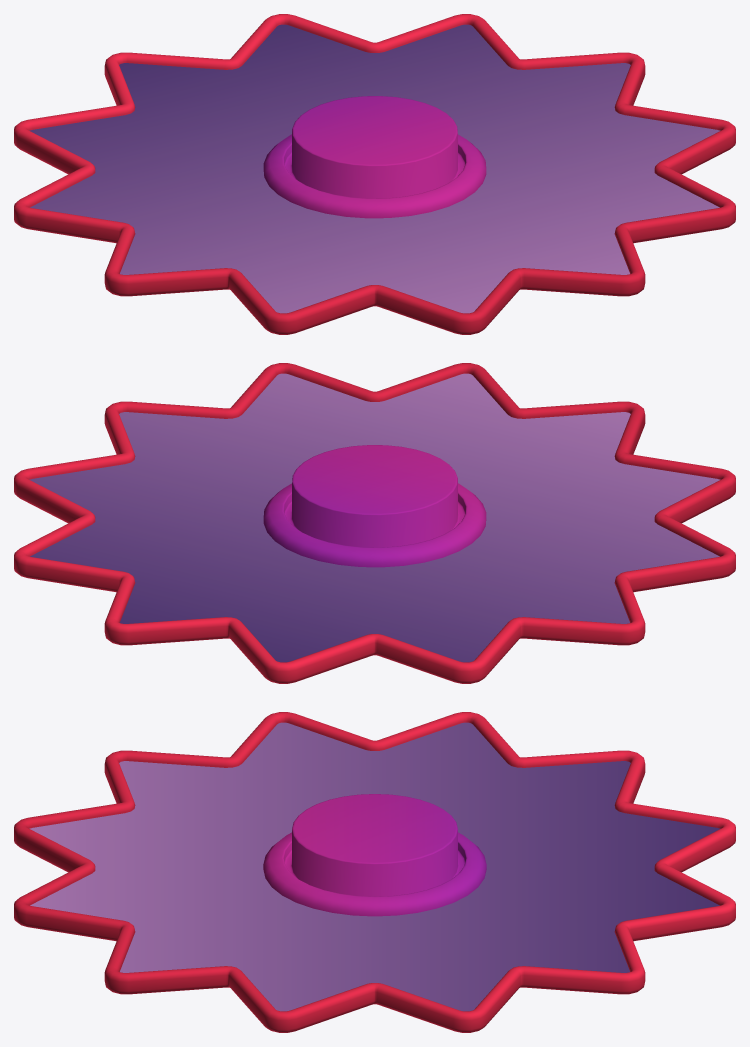
Rendered from Obs_02.fbx.
3 renders of one model, top to bottom at view 1: azimuth 30°, elevation 25°; view 2: azimuth 150°, elevation 25°; view 3: azimuth 270°, elevation 25°, orthographic.
Parts seen in each view (by area): view 1: Obs_02_Saw_Transparan, Obs_02_Saw_Outer; view 2: Obs_02_Saw_Transparan, Obs_02_Saw_Outer; view 3: Obs_02_Saw_Transparan, Obs_02_Saw_Outer.
Boxes of the visible parts, x1,y1,x2,y2 form: Obs_02_Saw_Transparan: [29, 24, 720, 313]; Obs_02_Saw_Outer: [14, 14, 735, 334]; Obs_02_Saw_Transparan: [29, 373, 720, 662]; Obs_02_Saw_Outer: [14, 363, 735, 683]; Obs_02_Saw_Transparan: [29, 722, 720, 1011]; Obs_02_Saw_Outer: [14, 712, 735, 1032].
Bounding box in the file's own units: 2.06 × 0.2683 × 2.06.
